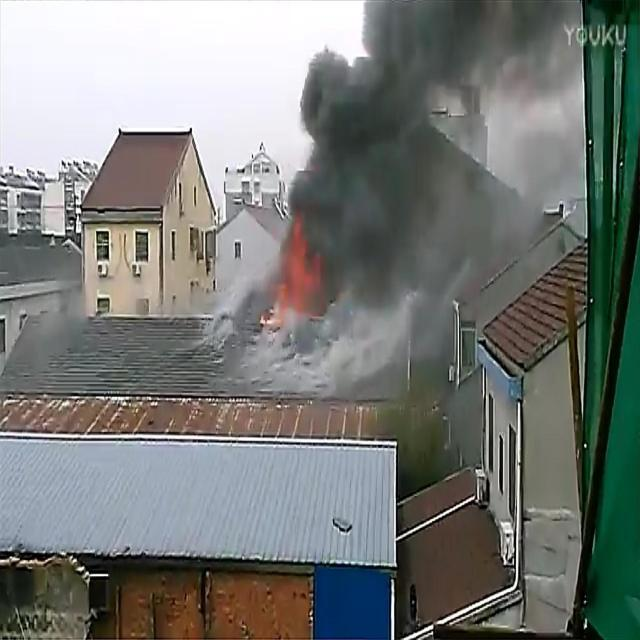Fire: (275, 217, 323, 323)
Smoke: (200, 1, 584, 404)
